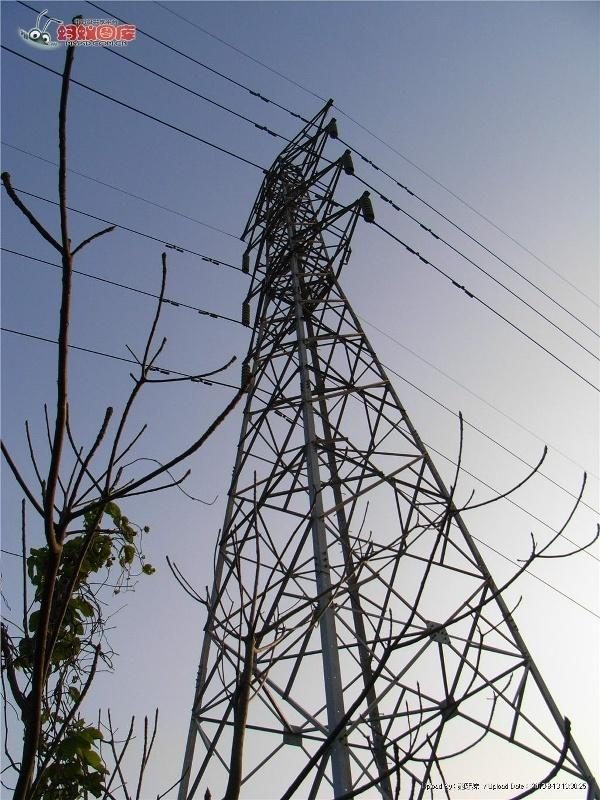power_tower: (187, 92, 591, 782)
